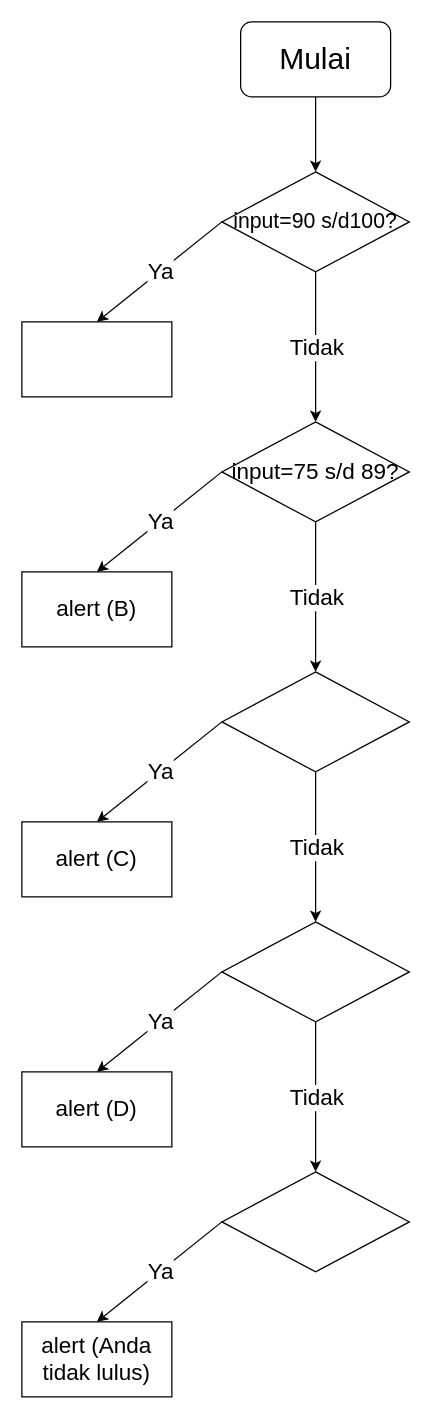
This 431x1419 diagram has some shape labels left out. Each missing label, with the centre of its shape:
alert (A): (96,359)
input<50: (315,1221)
input=50 s/d 59?: (315,971)
input=60 s/d 74?: (315,721)
